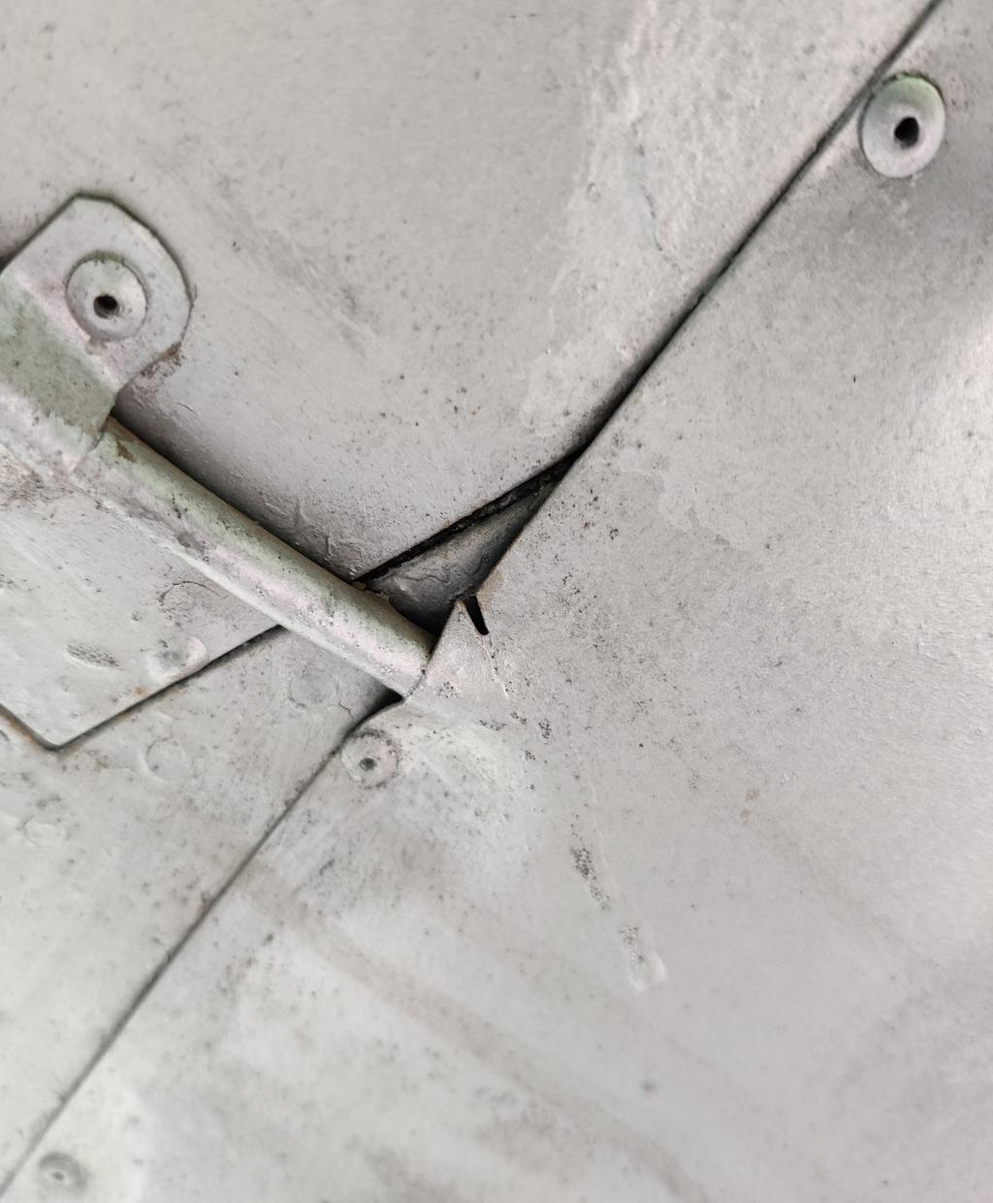crack: (431, 553, 520, 674)
